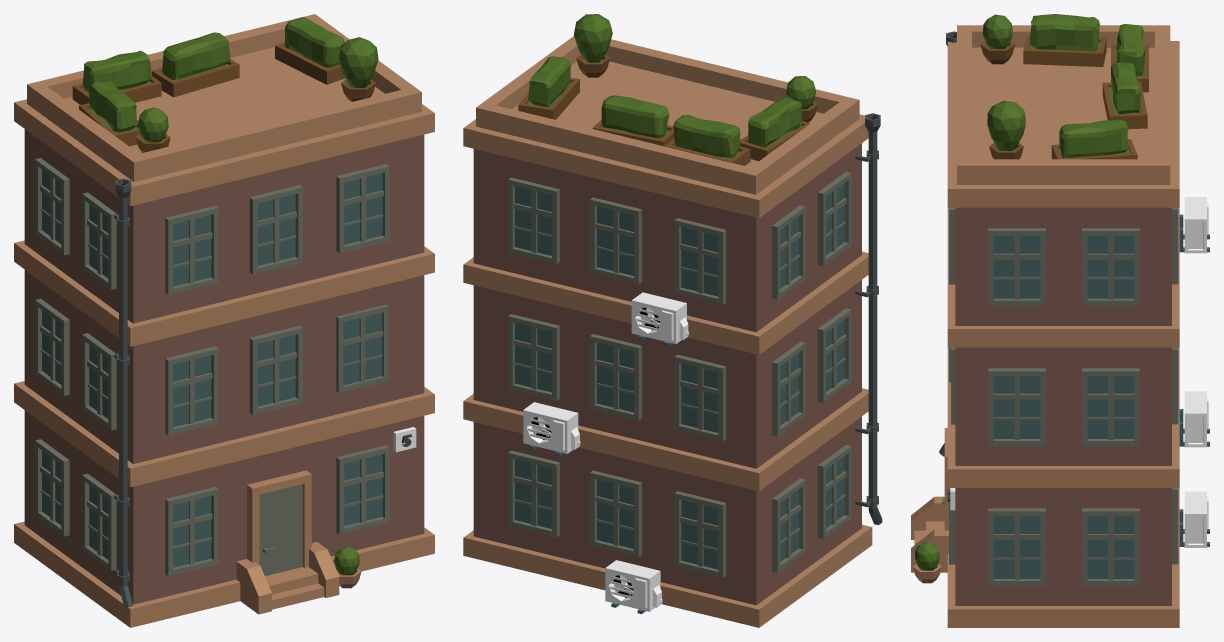
Rendered from residential-C2.glb.
3 views of the same model, side by side, from view 1: azimuth 30°, elevation 25°; view 2: azimuth 150°, elevation 25°; view 3: azimuth 270°, elevation 25° (orthographic). The views are drawn at different scales.
Parts seen in each view (by area): view 1: Box15910, Box15908, Box15912, Box15904, Box15909, Box15913, Box15911, Box15914, StraightStair015, window_185, window_193, window_173 (+25 smaller); view 2: Box15908, Box15912, Box15910, Box15904, Box15909, Box15914, Box15913, Box15911, window_195, window_176, window_186, Cylinder1722 (+25 smaller); view 3: Box15904, Box15908, Box15910, Box15912, Box15909, Box15913, Box15911, Box15914, window_169, window_170, window_179, window_180 (+23 smaller).
Boxes of the visible parts, bbox=[...] form: Box15910: bbox=[24, 270, 424, 463]; Box15908: bbox=[24, 129, 424, 323]; Box15912: bbox=[24, 410, 424, 604]; Box15904: bbox=[27, 14, 421, 181]; Box15909: bbox=[14, 99, 434, 206]; Box15913: bbox=[14, 381, 434, 487]; Box15911: bbox=[14, 240, 434, 346]; Box15914: bbox=[14, 521, 434, 627]; StraightStair015: bbox=[236, 542, 339, 614]; window_185: bbox=[165, 346, 218, 435]; window_193: bbox=[336, 445, 389, 534]; window_173: bbox=[336, 164, 389, 253]; Box15908: bbox=[473, 143, 861, 332]; Box15912: bbox=[473, 416, 861, 605]; Box15910: bbox=[473, 280, 861, 468]; Box15904: bbox=[476, 36, 859, 194]; Box15909: bbox=[463, 114, 870, 218]; Box15914: bbox=[463, 524, 872, 627]; Box15913: bbox=[463, 388, 868, 491]; Box15911: bbox=[463, 251, 868, 354]; window_195: bbox=[674, 491, 726, 577]; window_176: bbox=[674, 218, 726, 304]; window_186: bbox=[674, 354, 726, 441]; Cylinder1722: bbox=[865, 113, 882, 525]; Box15904: bbox=[957, 25, 1170, 184]; Box15908: bbox=[955, 207, 1171, 325]; Box15910: bbox=[955, 347, 1171, 465]; Box15912: bbox=[955, 488, 1171, 605]; Box15909: bbox=[947, 41, 1179, 207]; Box15913: bbox=[947, 347, 1179, 487]; Box15911: bbox=[947, 207, 1179, 347]; Box15914: bbox=[947, 488, 1179, 627]; window_169: bbox=[1082, 228, 1139, 305]; window_170: bbox=[988, 228, 1045, 305]; window_179: bbox=[1082, 368, 1139, 445]; window_180: bbox=[988, 368, 1045, 445].
Size of the model in its own units: 7.07 by 10.77 by 5.8.
